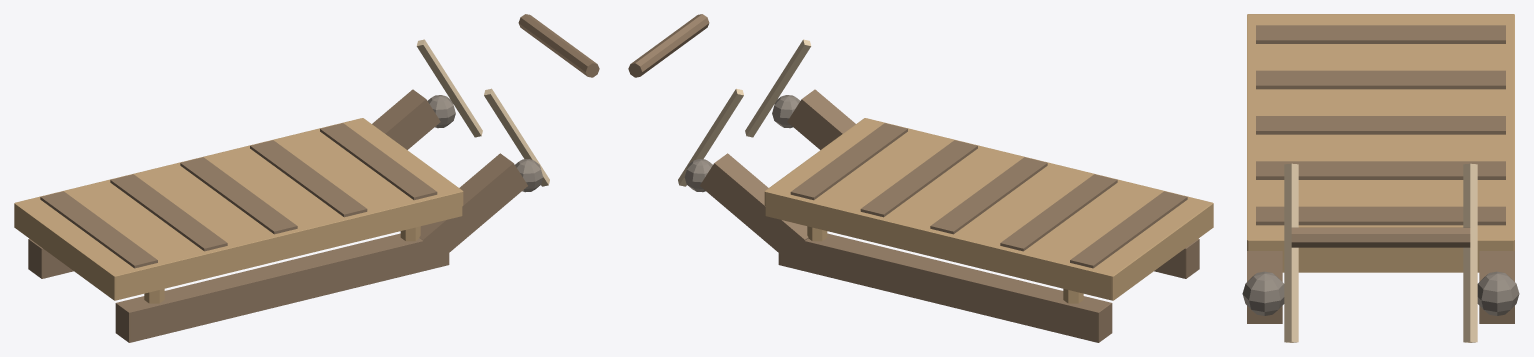
The model's file is sled.glb.
3 views of the same model, side by side, from view 1: azimuth 30°, elevation 25°; view 2: azimuth 150°, elevation 25°; view 3: azimuth 270°, elevation 25° (orthographic). The views are drawn at different scales.
Parts seen in each view (by area): view 1: sled; view 2: sled; view 3: sled.
Part boxes in pixels (x1,y1,x2,y2): sled: (14,14,599,342); sled: (628,14,1213,342); sled: (1242,14,1519,342).
Bounding box in the file's own units: 0.862 × 0.247 × 0.31.
